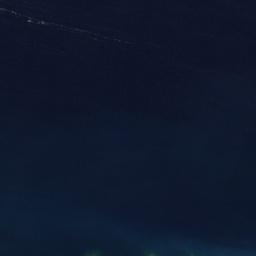Marine Debris: (35, 21, 99, 42), (0, 7, 18, 15), (27, 18, 33, 23)
